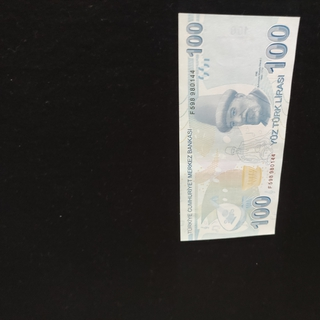100TLBack: (177, 12, 300, 242)
